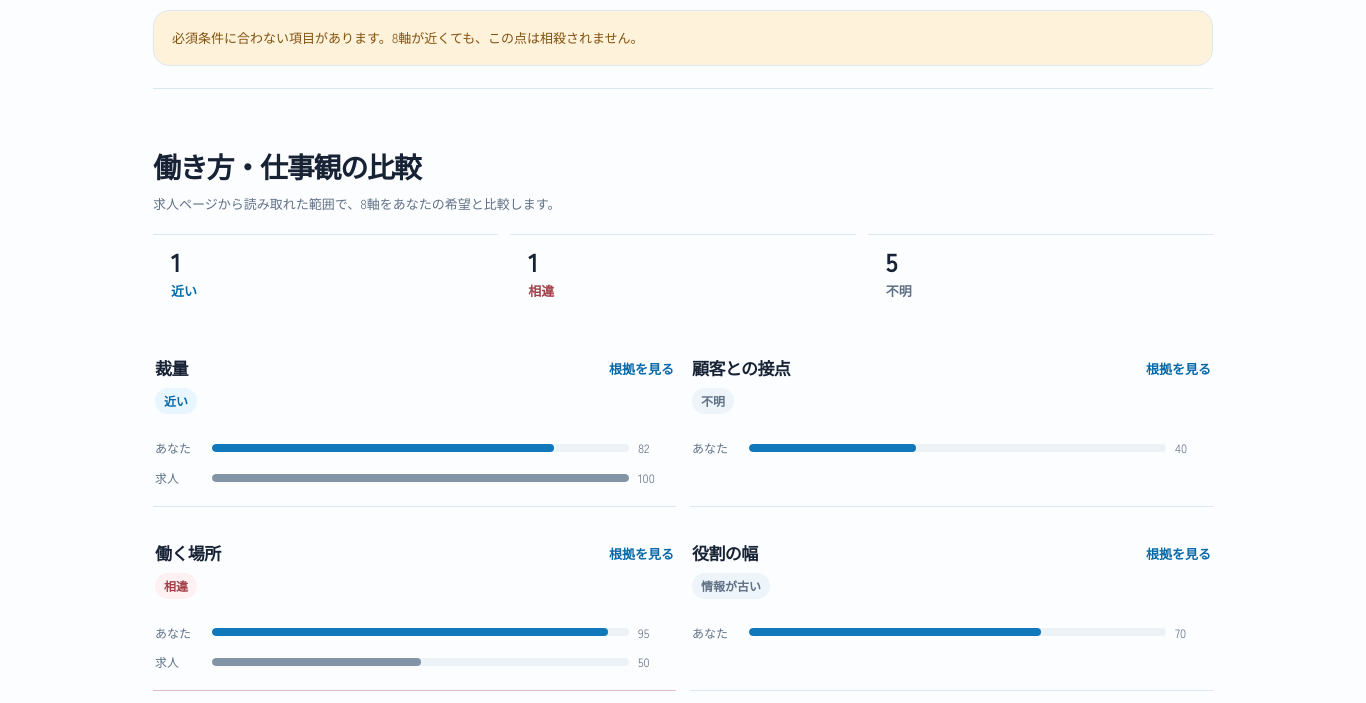
axes without evidence say so instead of guessing
(page scrolled)
Click the button "顧客との接点 不明 根拠を見る".
click(741, 368)  # box [692,354,1211,414]
(page scrolled)
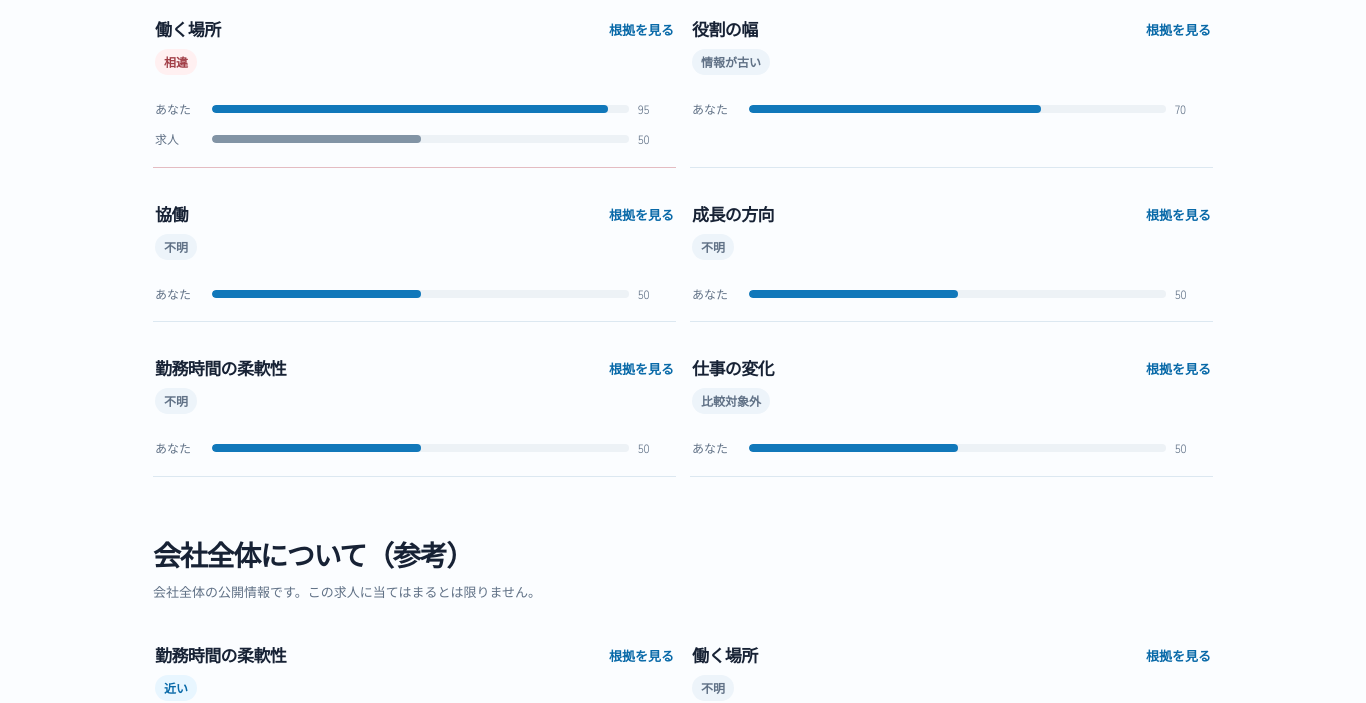
Click the button "仕事の変化 比較対象外 根拠を見る".
click(733, 368)  # box [692,354,1211,414]
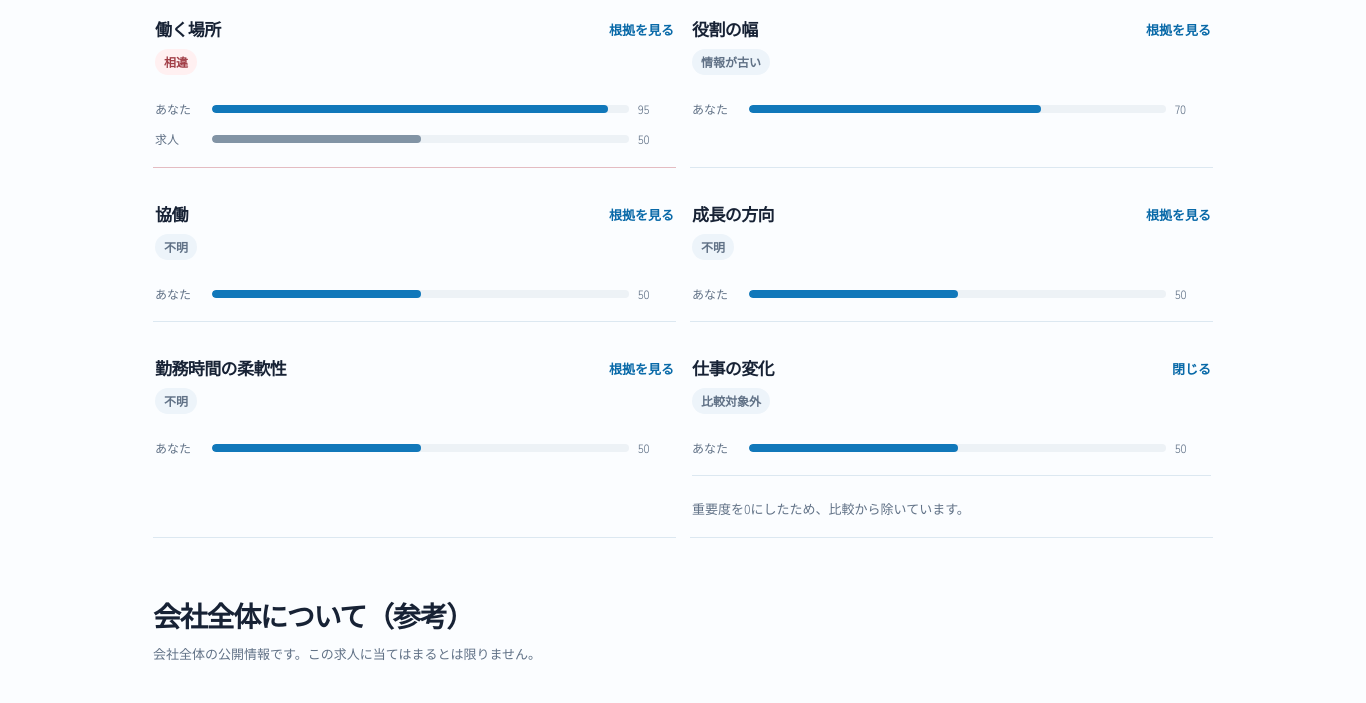
Expected: the element showing "重要度を0にしたため、比較から除いています。" is shown, [692,475,1211,519]
